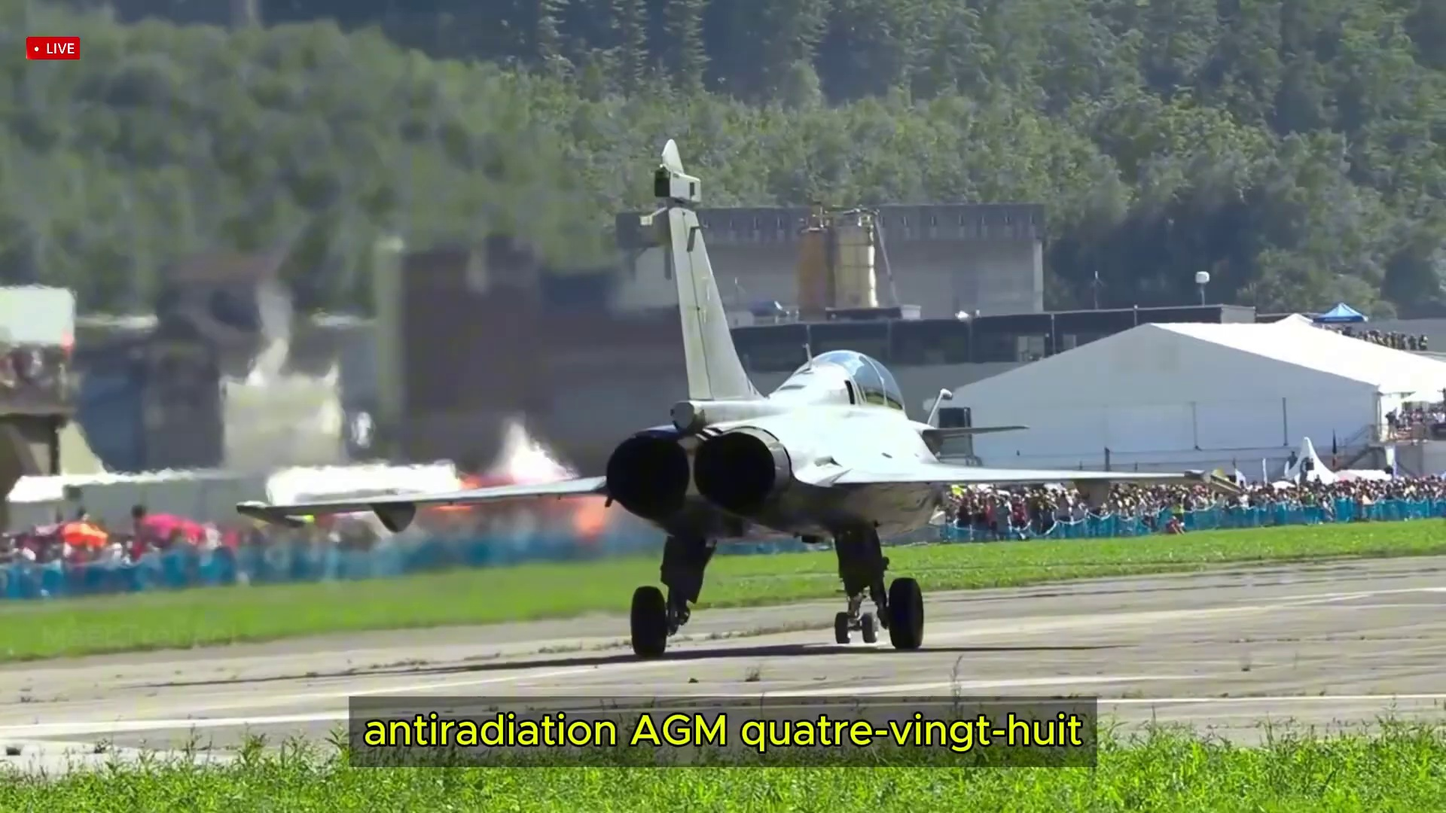Rafale: (229, 131, 1213, 667)
